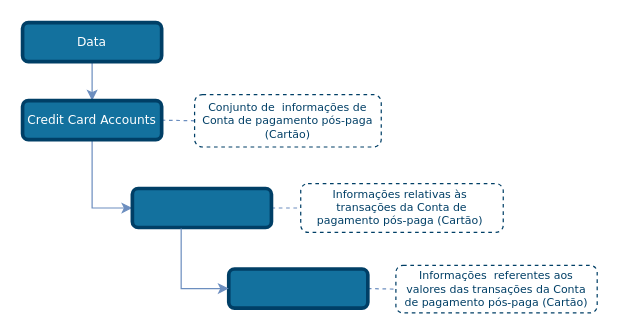
Image size: 619x334. Some labels were removed from this diagram. The centre of each missing label's shape, as x and y in pixels:
Statement Credit Card Accounts: [297,288]
Transactions: [201,207]
